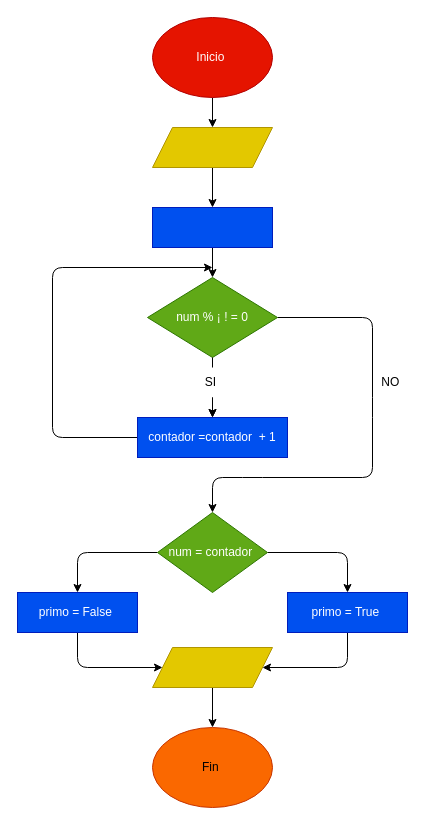
Some shapes in this 440 by 825 pixel diagram are drawn without their labels. The box of each missing label's shape, as (x1, y1, x2, y2) in pixels:
Contador = 2: (152, 206, 272, 248)
Digite el numero: (152, 126, 272, 168)
Escribir primo: (152, 646, 272, 688)
